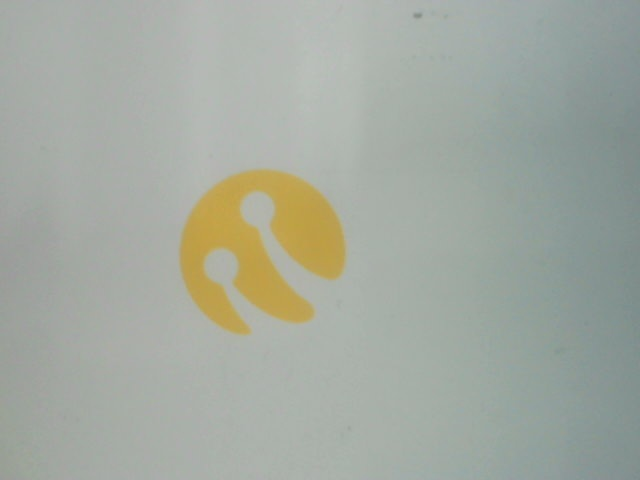AV_H3600Yellow: (158, 160, 365, 343)
